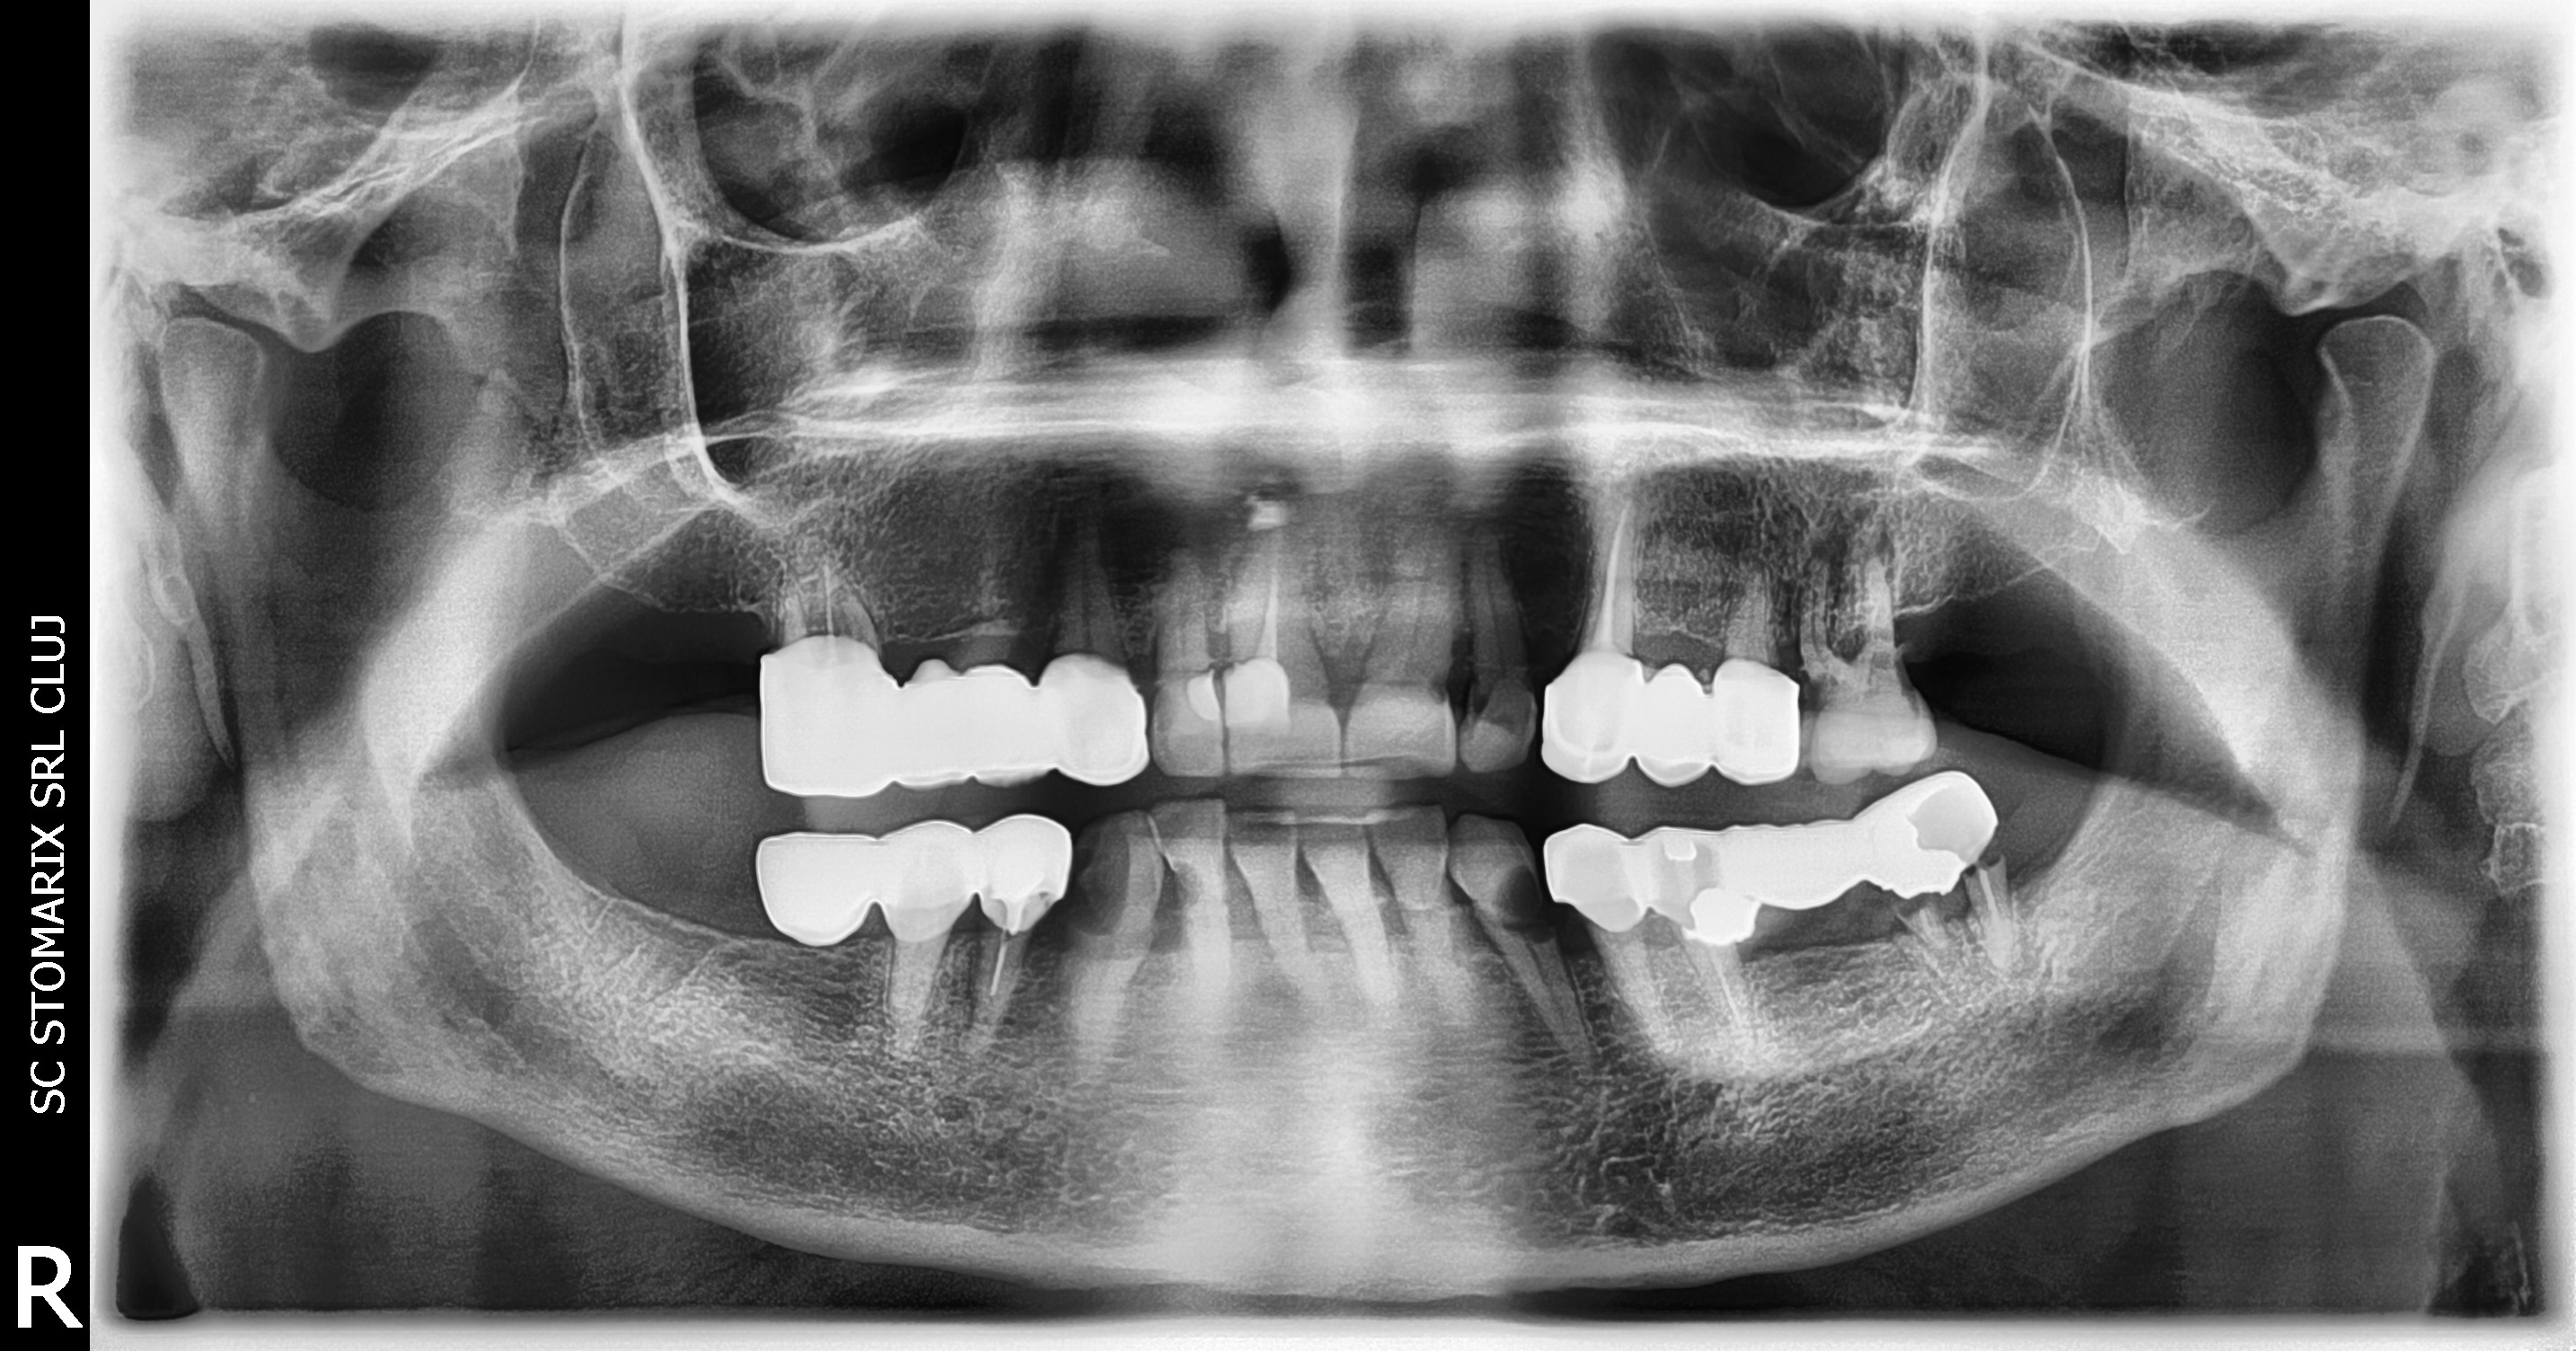API: (1567, 1036, 1603, 1090)
CAR: (1152, 681, 1174, 733)
END: (1252, 525, 1278, 663)
OBT: (1186, 670, 1220, 719)
PRR: (760, 634, 1148, 796)
ROT: (1961, 852, 2014, 966)
